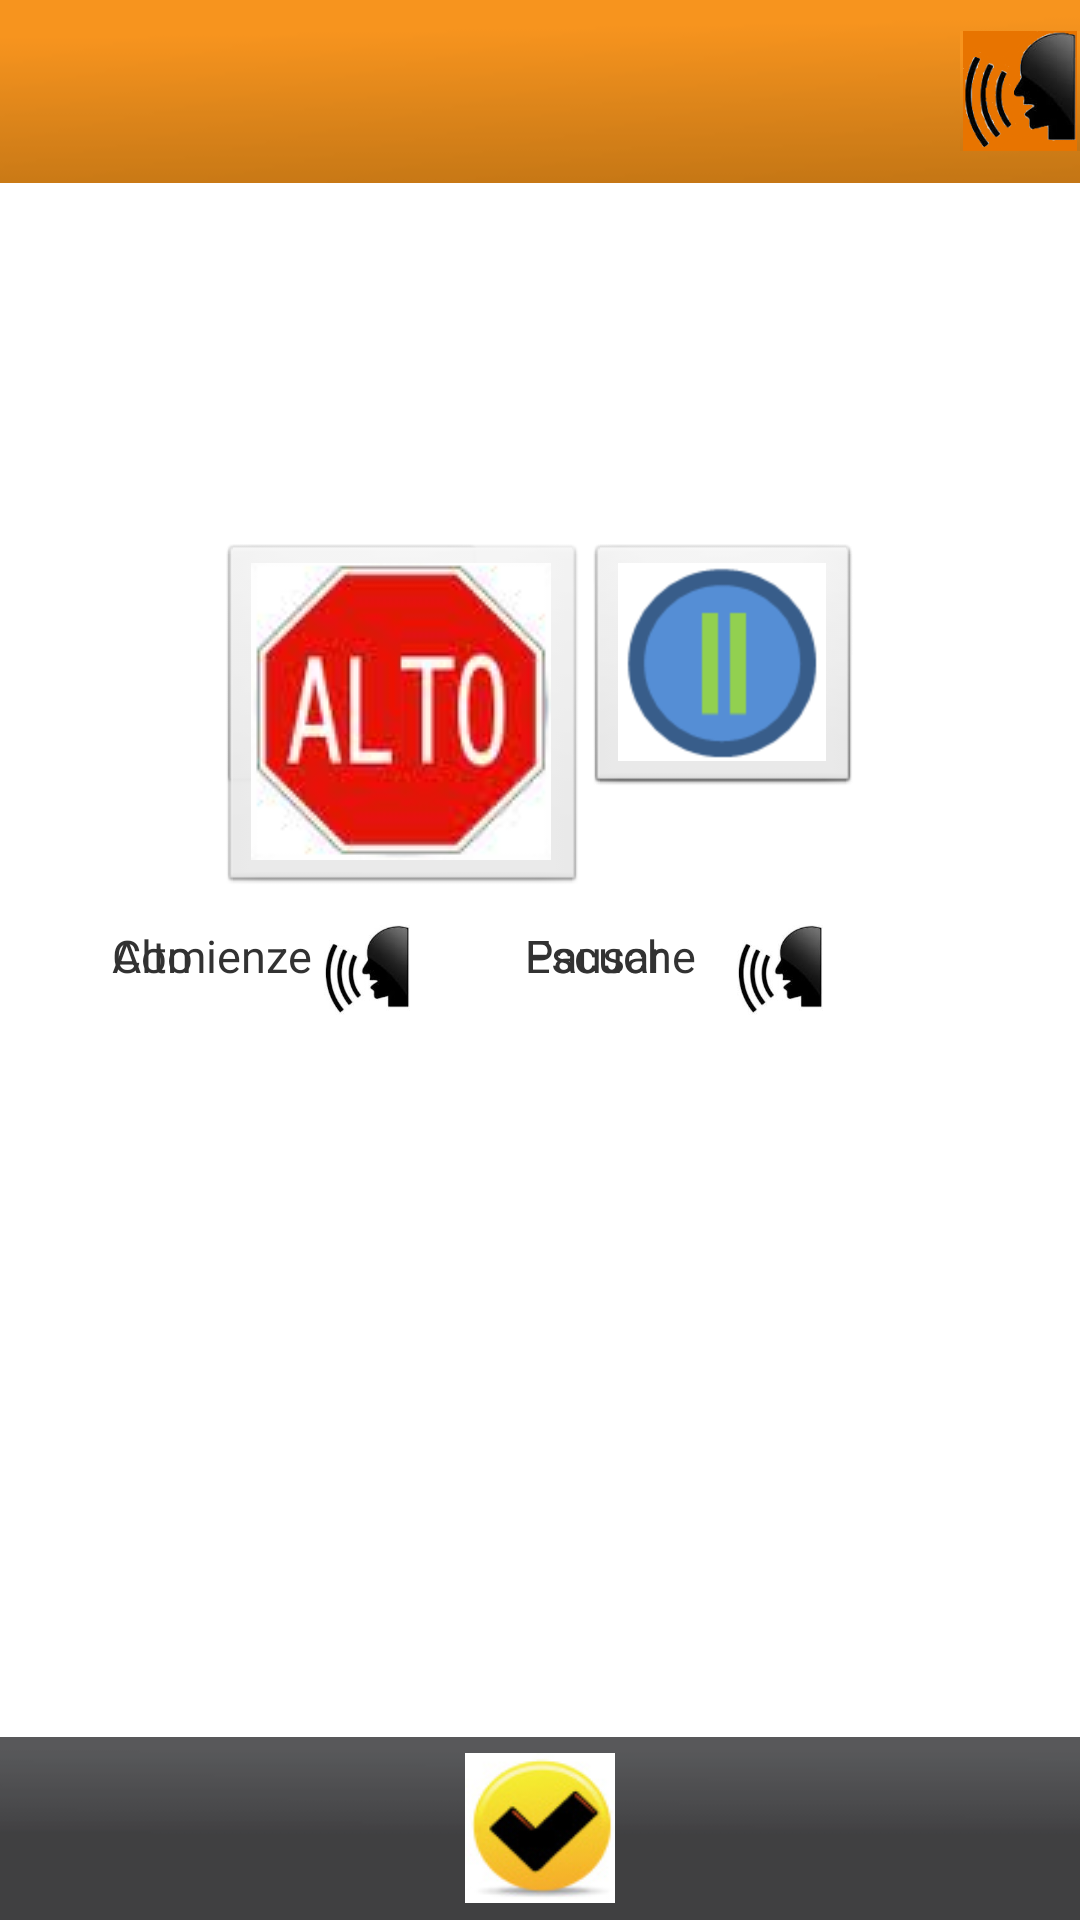

Icon bounding boxes for this 1080 × 1920 phone screenshot, format (x1, y1, x2, y2):
check: (465, 1753, 615, 1903)
